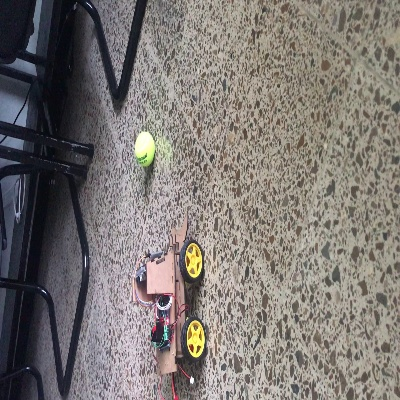Ball: (133, 132, 154, 166)
Robot: (130, 210, 206, 376)
